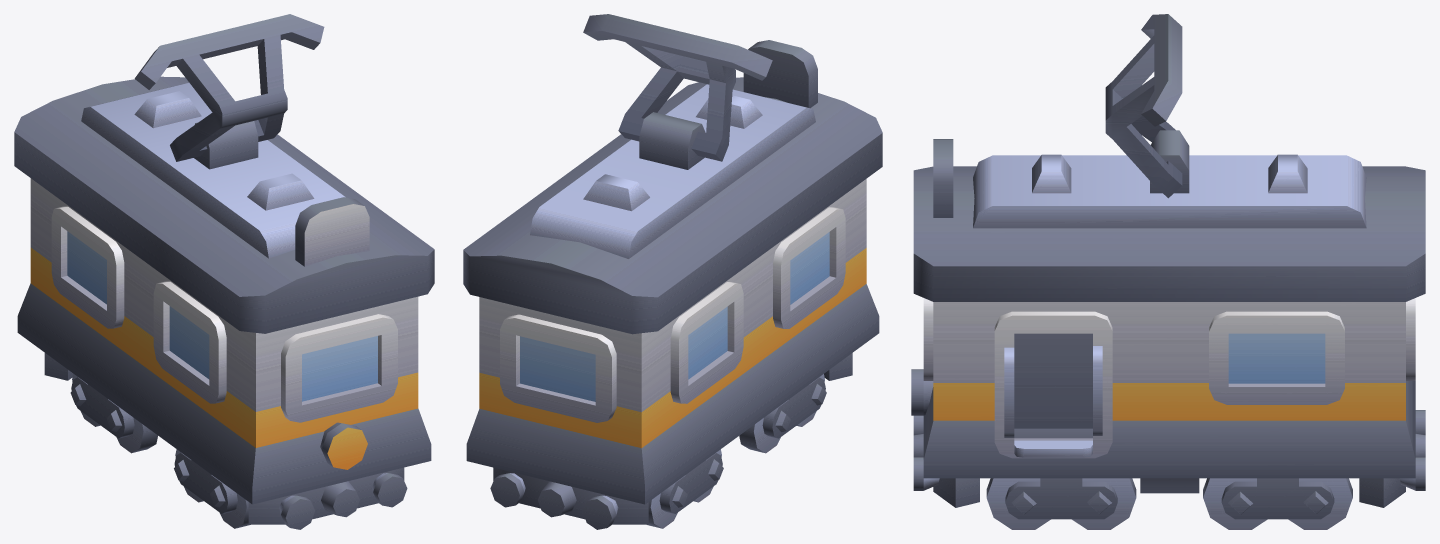
Rendered from train-tram-classic.glb.
3 views of the same model, side by side, from view 1: azimuth 30°, elevation 25°; view 2: azimuth 150°, elevation 25°; view 3: azimuth 270°, elevation 25° (orthographic). The views are drawn at different scales.
Visible parts, largest first — view 1: train-tram-classic, collector, wheels-back, wheels-front; view 2: train-tram-classic, collector, wheels-front, wheels-back; view 3: train-tram-classic, collector, wheels-front, wheels-back.
Boxes of the visible parts, x1,y1,x2,y2 form: train-tram-classic: [14, 76, 434, 529]; collector: [134, 14, 324, 161]; wheels-back: [70, 374, 157, 453]; wheels-front: [174, 449, 250, 528]; train-tram-classic: [463, 40, 882, 529]; collector: [583, 14, 772, 161]; wheels-front: [739, 374, 826, 453]; wheels-back: [647, 449, 723, 528]; train-tram-classic: [911, 130, 1425, 507]; collector: [1105, 14, 1182, 198]; wheels-front: [986, 478, 1136, 529]; wheels-back: [1203, 478, 1352, 529].
Size of the model in its own units: 1.25 by 2.52 by 2.61.
1 material, 1 textured.
